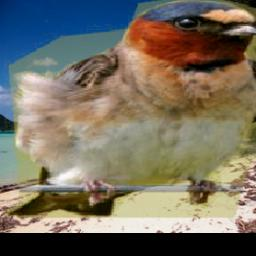Swallow: (4, 0, 256, 218)
